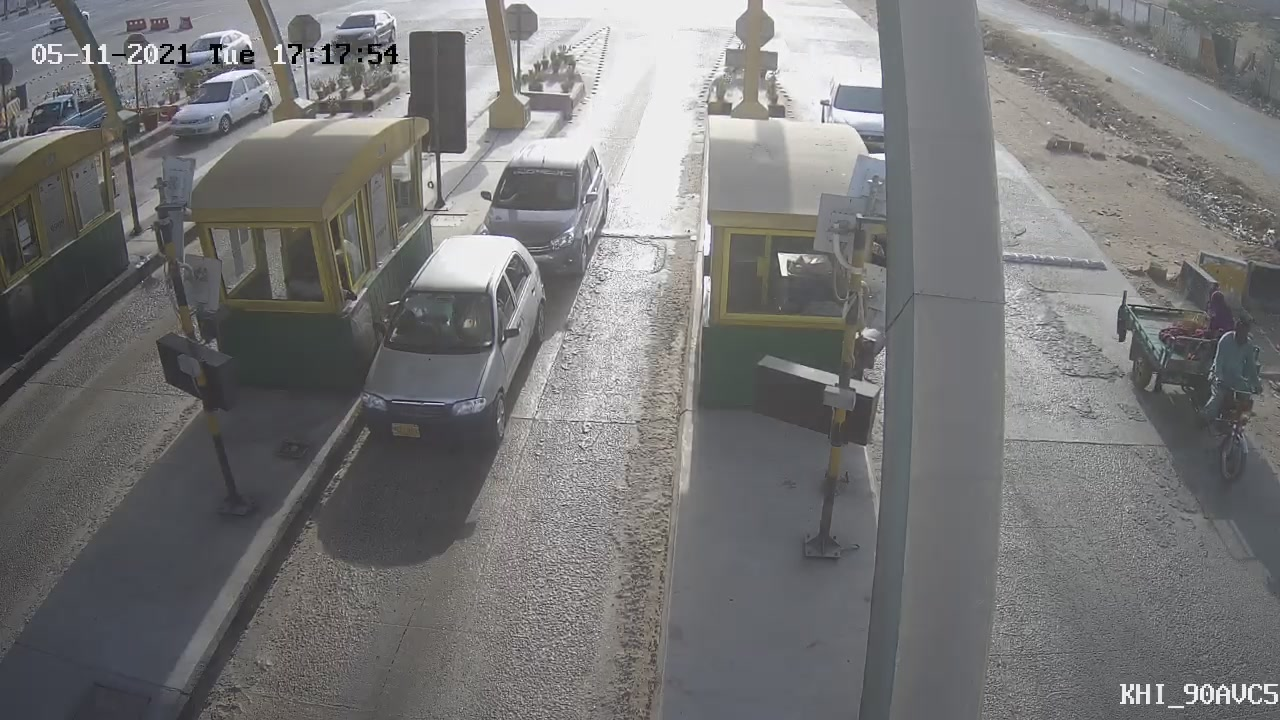F1: (338, 224, 560, 470), (464, 127, 625, 294)
